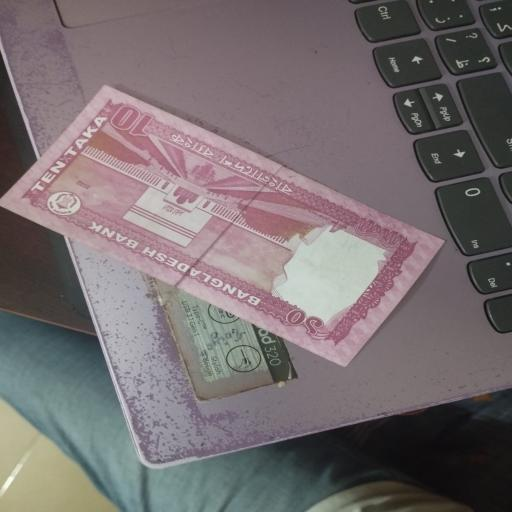10taka: (6, 80, 444, 371)
